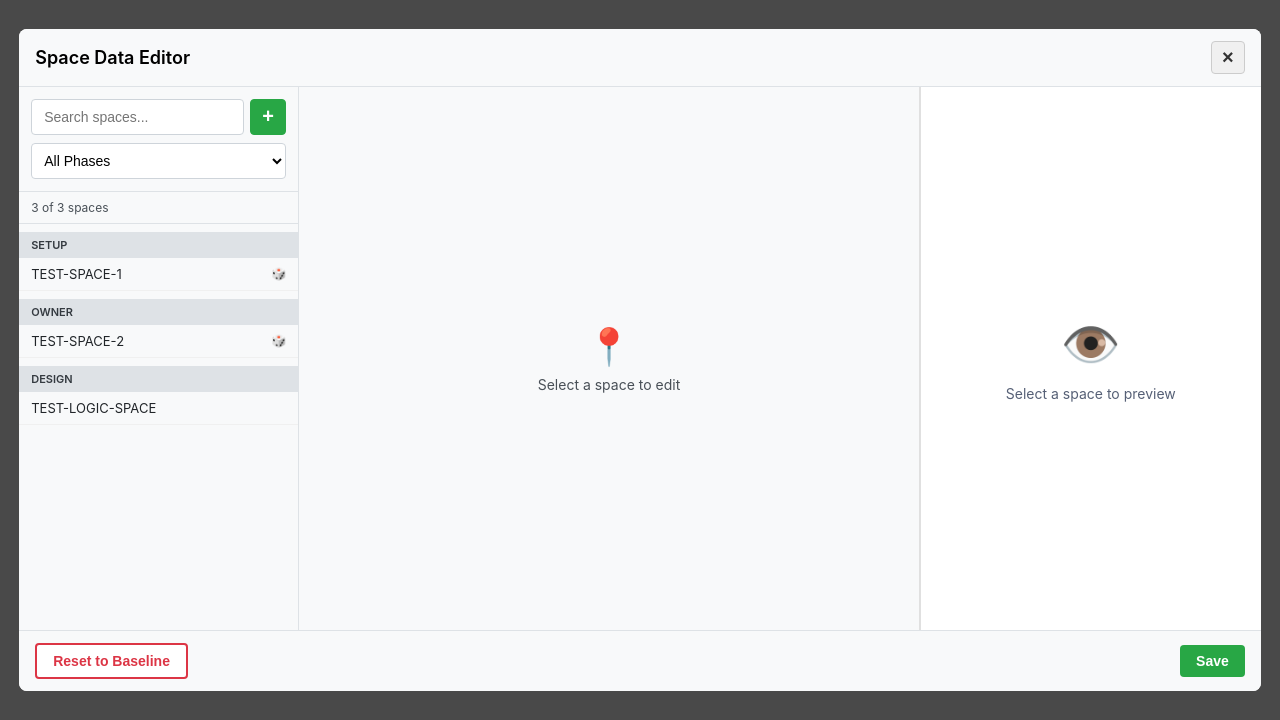
Test: DataEditor › Space Browser › filters spaces by search term
expect the text "TEST-SPACE-1" is shown: met, box [31,266,122,282]
Type "SPACE-2" into the field with placeholder "Search spaces..." at (138, 117), box [31,99,244,135]
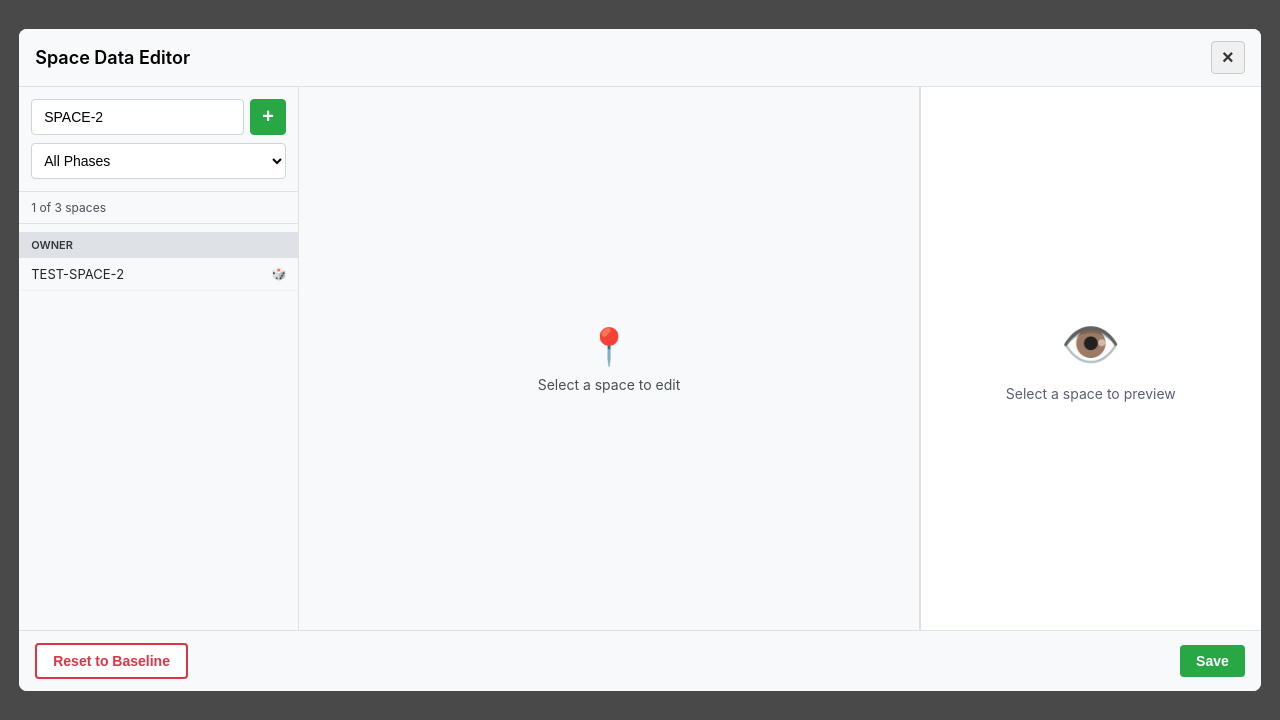
expect the text "TEST-SPACE-2" is shown: met, box [31,266,124,282]
expect the text "TEST-SPACE-1" is gone: met
